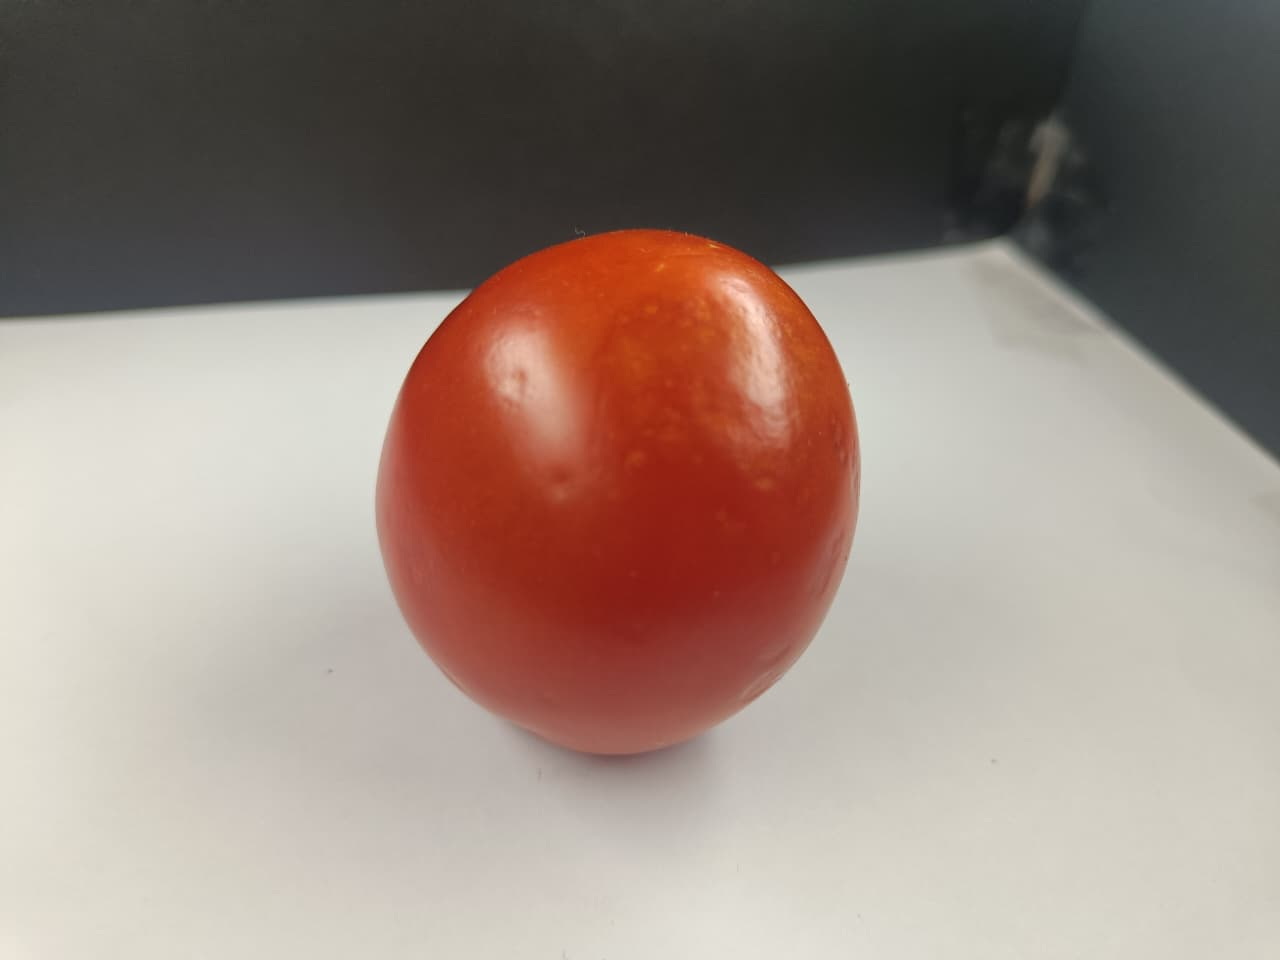ripe: (372, 224, 870, 758)
